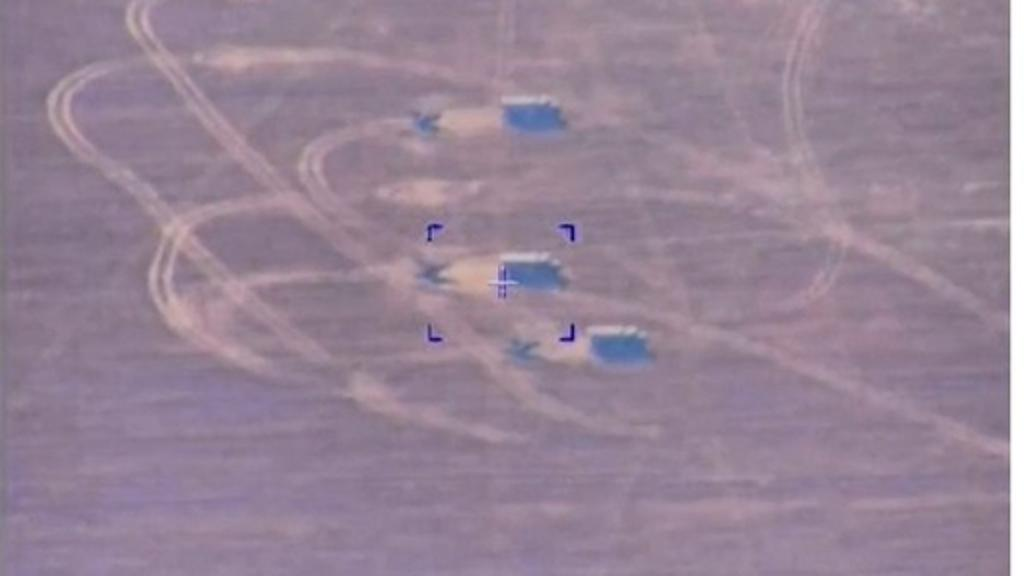ART: (400, 104, 454, 140), (496, 332, 544, 364), (410, 258, 458, 288)
TRUCK: (500, 92, 570, 128), (580, 320, 650, 356), (500, 248, 564, 282)
